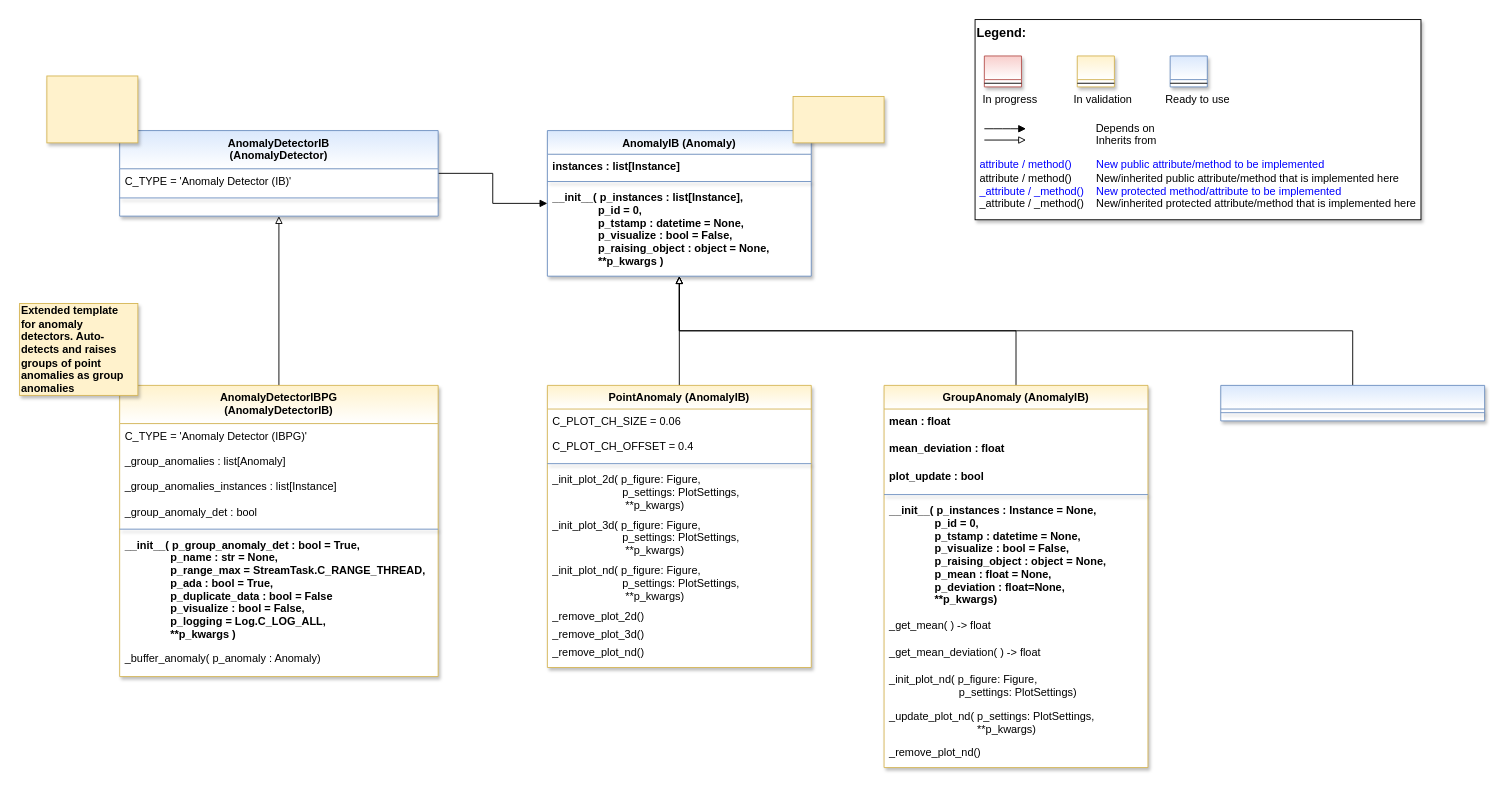
Image size: 1506x790. Some labels were removed from this diagram. Each missing label, with the centre of its shape:
ContextualAnomaly (AnomalyIB): point (1353, 404)
Sub-type for instance-based anomalies: point (839, 120)
Sub-type for instance-based anomaly detectors: point (92, 110)
